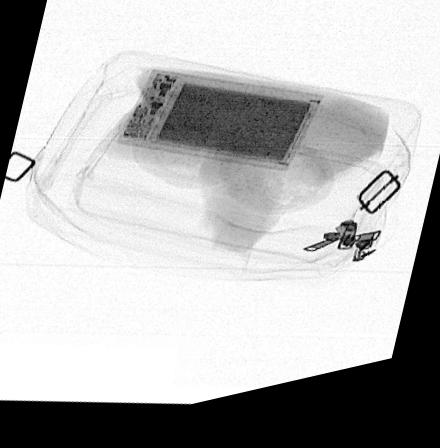Powerbank: (114, 75, 323, 185)
